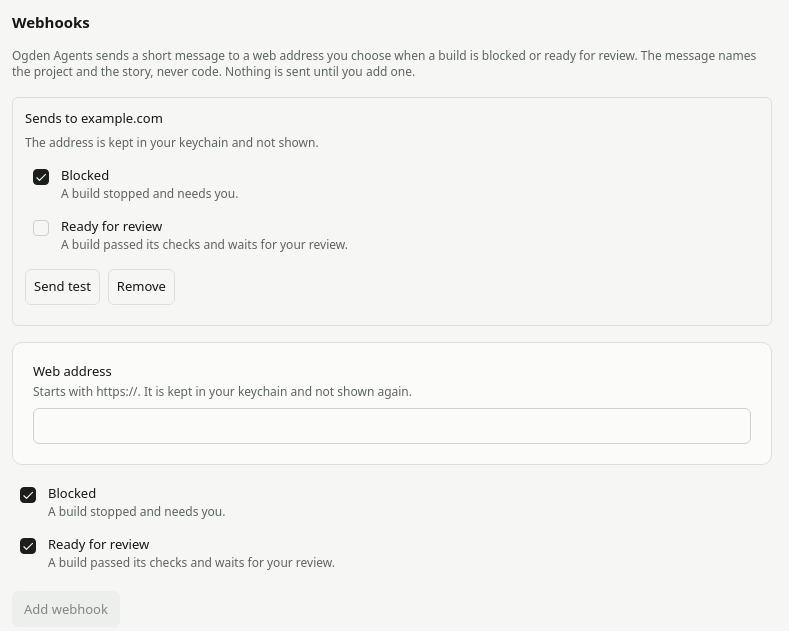
Test case: webhooks in Settings, Notifications (story 11.4) › Remove takes it away; with no keychain the add says why and nothing is listed
Click the button with test id "webhook-remove" at x=141, y=287, box 108,269 -> 175,305
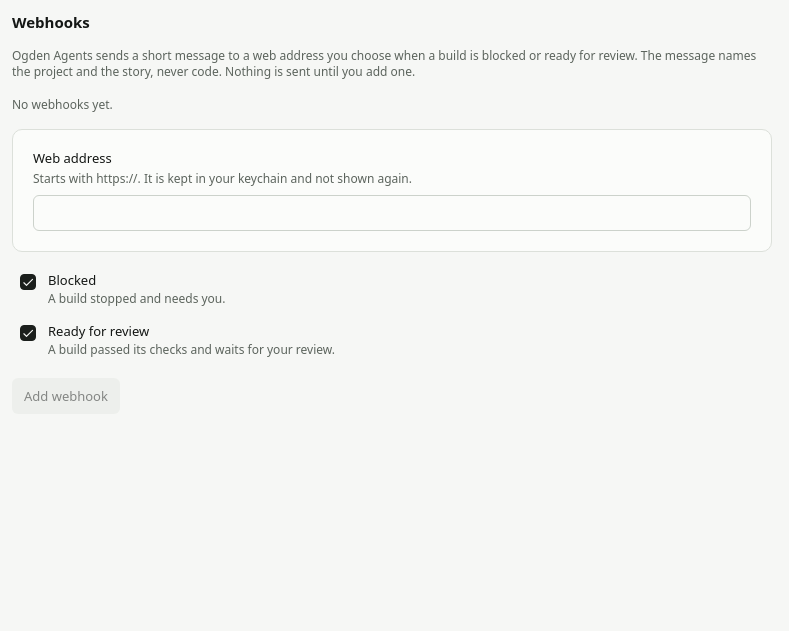
Check: the button with test id "webhook" is gone
Type "https://hooks.example.com/services/T0K3N" into the field with test id "webhook-url" at x=392, y=213, box 33,195 -> 751,231
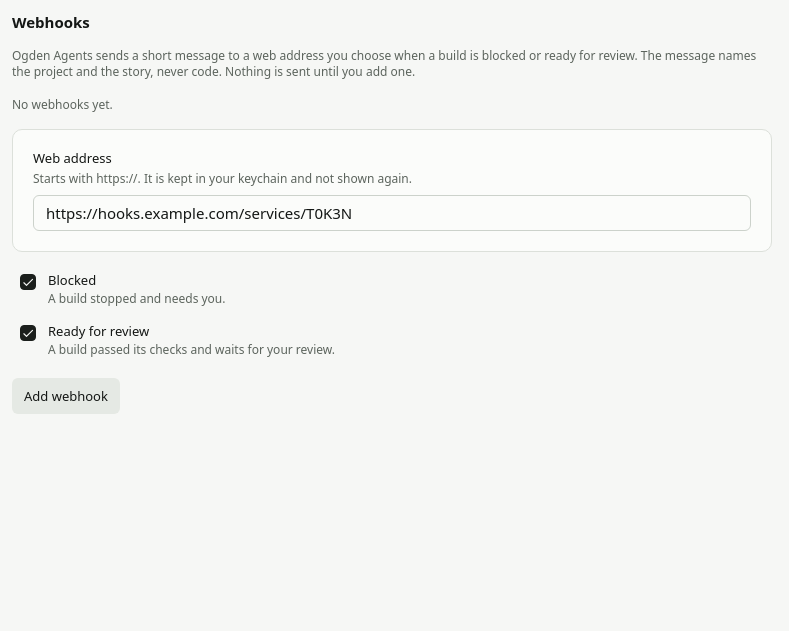
Click the button with test id "webhook-add" at x=66, y=396, box 12,378 -> 120,414
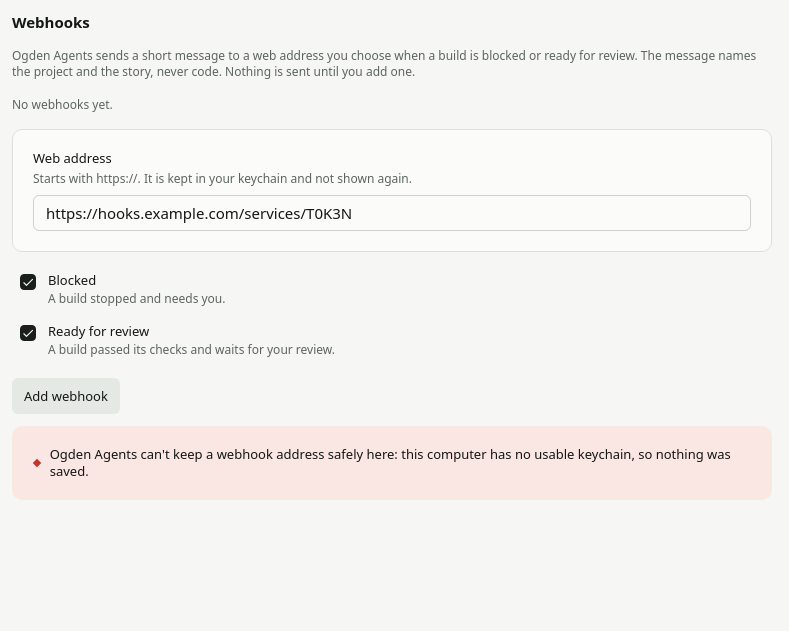
Check: the message with test id "webhook-add-error" shows "no usable keychain", box 50,445 -> 731,480
